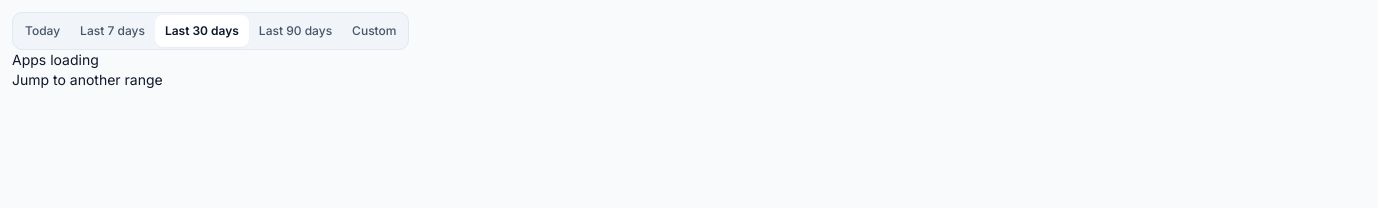
Test case: date range control › starts a custom range from the days already on screen, in the studio time zone
Click the button "Custom". click: {"x": 374, "y": 31}
box: [342,15,406,47]
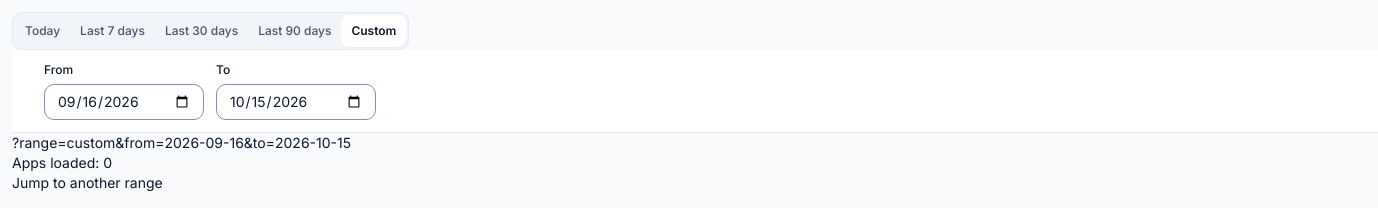
Expected: the text with test id "address" reads "?range=custom&from=2026-09-16&to=2026-10-15", [12,134,351,151]
Expected: the date field labelled "From" holds "2026-09-16", [44,84,204,120]
Expected: the date field labelled "To" holds "2026-10-15", [216,84,376,120]
